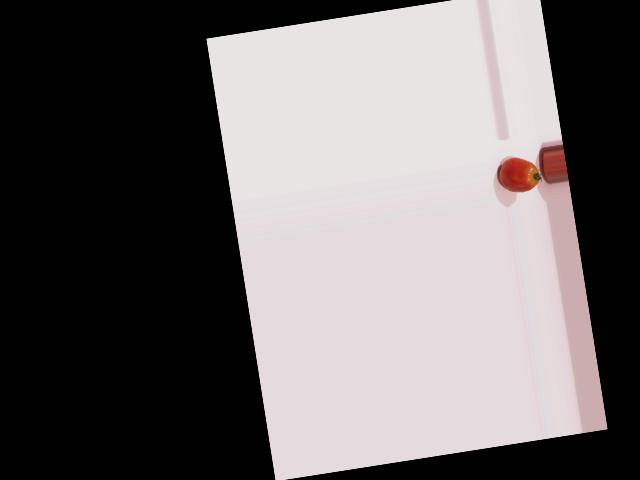tomato: (497, 154, 541, 194)
